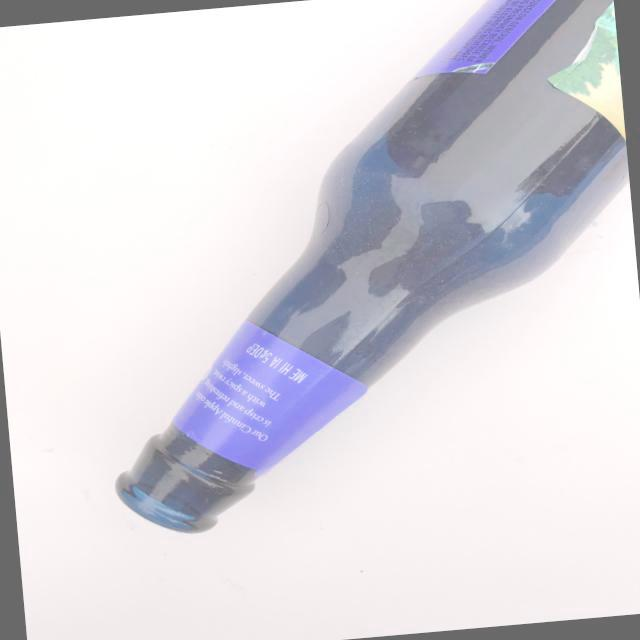glass: (67, 0, 640, 555)
